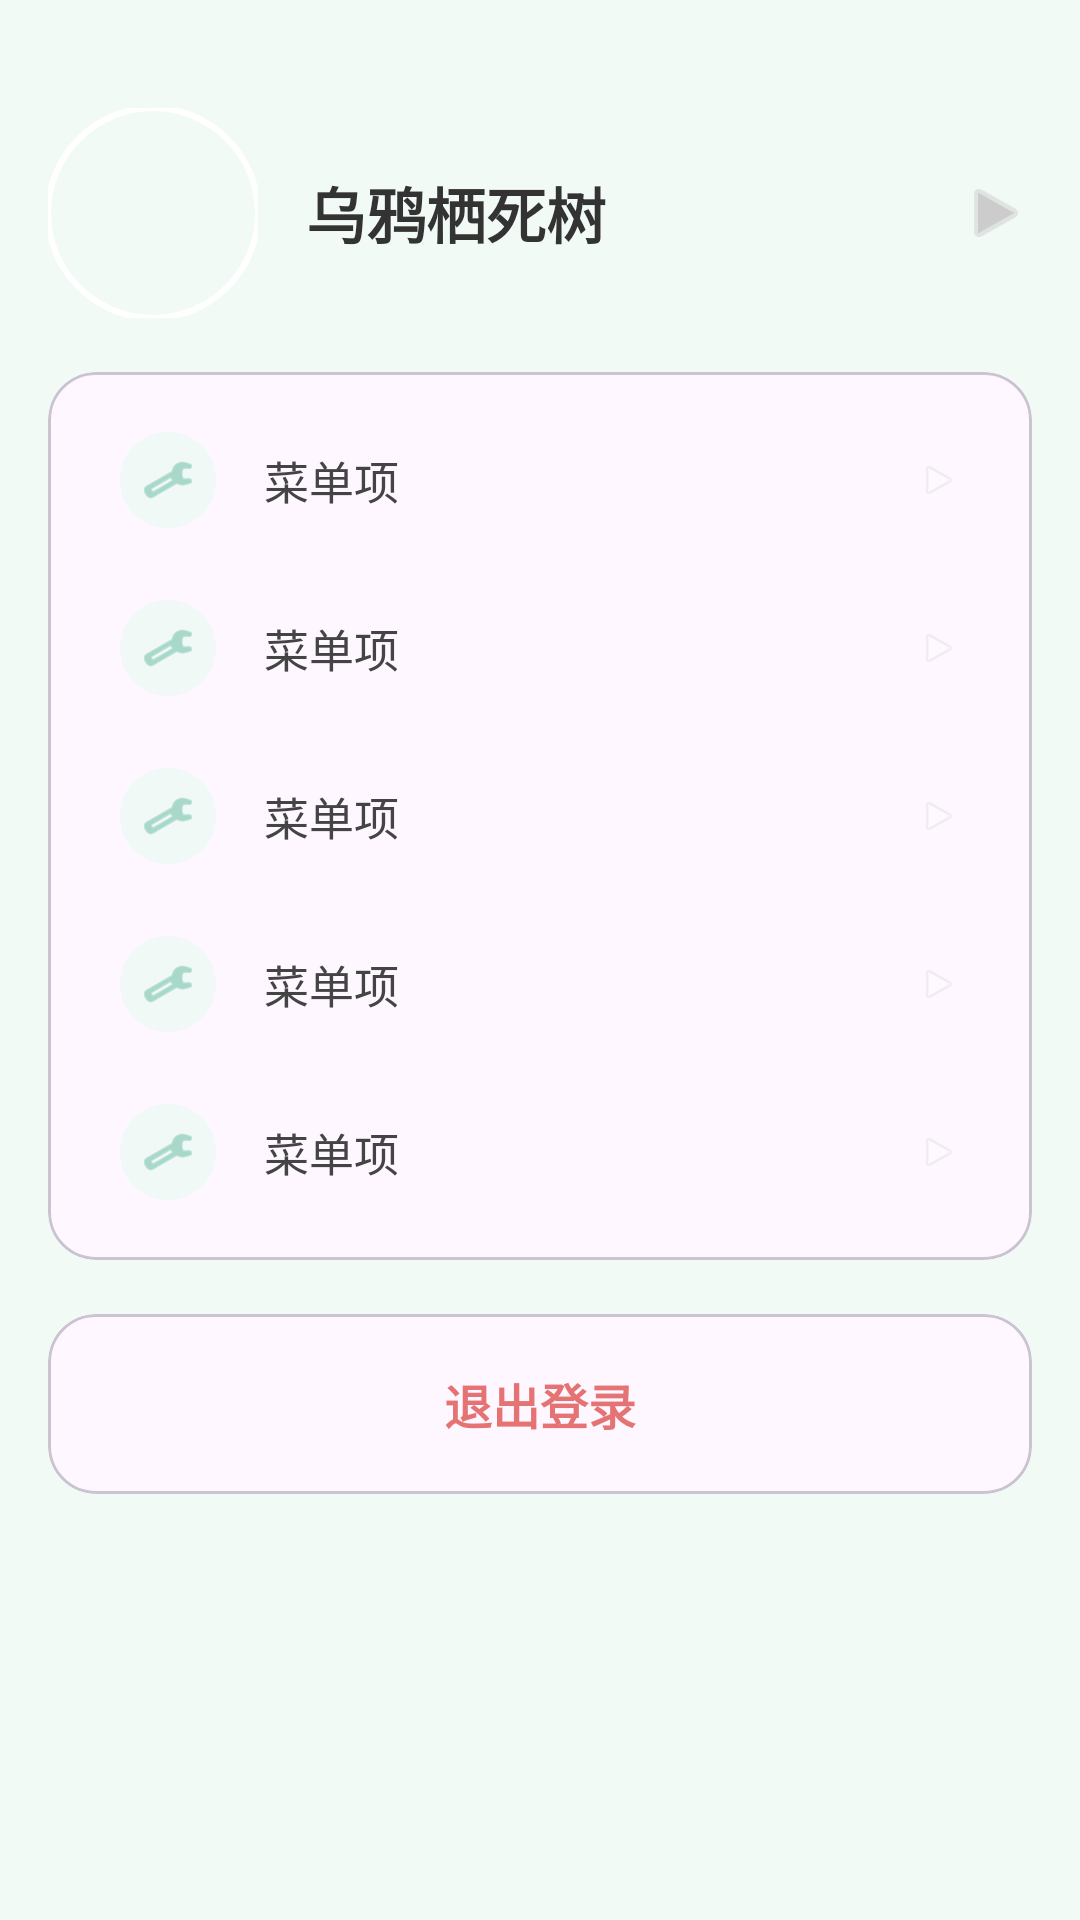

Screen size 1080px x 1920px. Icon name, then its center in pixels as point (x, y):
manage: point (168, 480), point (168, 648), point (168, 816), point (168, 984), point (168, 1152)
play: point (996, 213)
